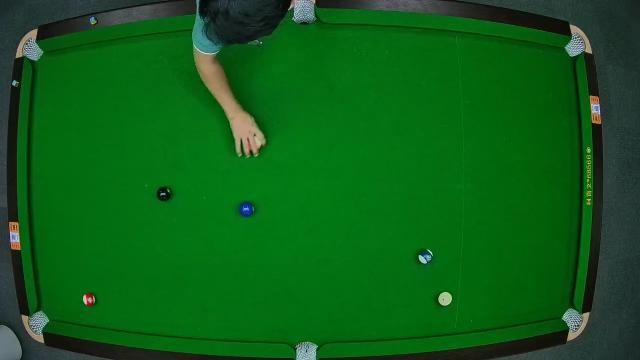bag1: (22, 39, 42, 61)
bag2: (292, 0, 318, 24)
bag3: (564, 33, 588, 55)
bag4: (27, 310, 48, 334)
bag5: (293, 340, 319, 360)
bag6: (562, 308, 582, 330)
ball0: (438, 292, 454, 308)
ball10: (418, 248, 434, 266)
ball11: (81, 292, 95, 308)
ball2: (238, 202, 256, 219)
ball8: (156, 187, 172, 202)
